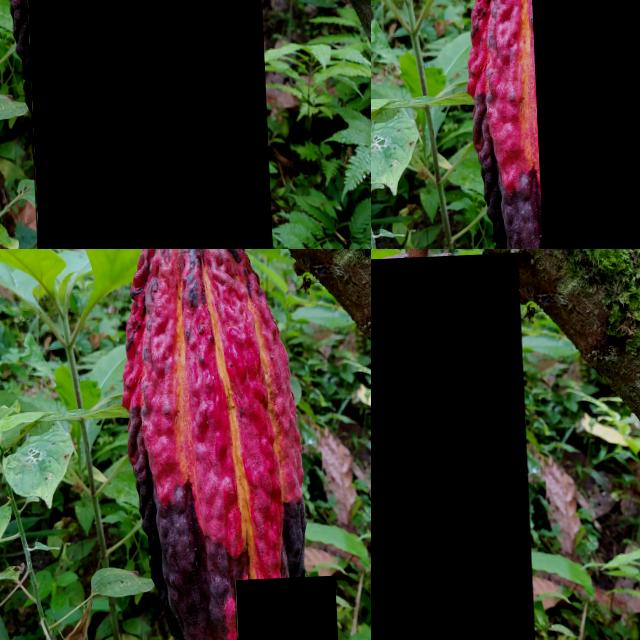Fitoftora: (371, 257, 534, 640), (166, 249, 308, 613)
Monilia: (22, 0, 269, 249), (231, 580, 339, 640)
Sana: (529, 0, 640, 249)
